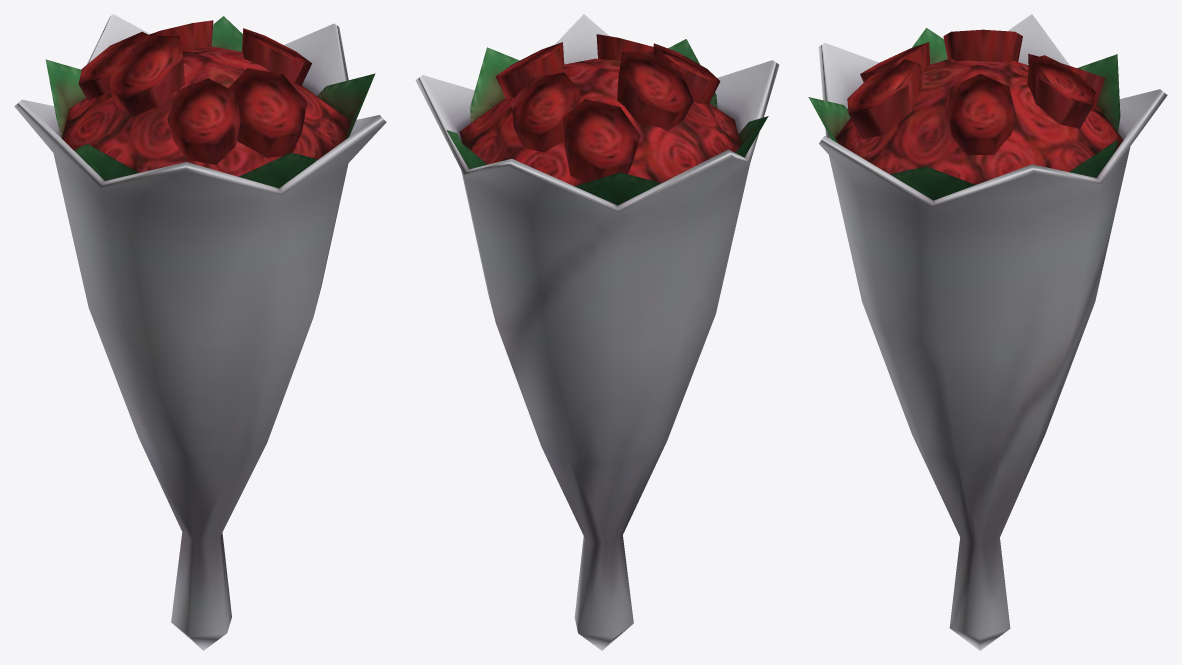
Rendered from starBouquet.glb.
The picture shows the model from 3 angles, left to right: view 1: azimuth 30°, elevation 25°; view 2: azimuth 150°, elevation 25°; view 3: azimuth 270°, elevation 25°; orthographic projection. The views are drawn at different scales.
Visible parts, largest first — view 1: starBouquet; view 2: starBouquet; view 3: starBouquet.
Boxes of the visible parts, <box> form: starBouquet: <box>14,14,386,650</box>; starBouquet: <box>415,14,779,650</box>; starBouquet: <box>808,14,1167,650</box>.
Bounding box in the file's own units: 0.4367 × 0.7947 × 0.4238.
1 material, 1 textured.
